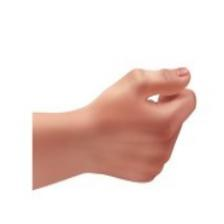five: (79, 57, 202, 184)
